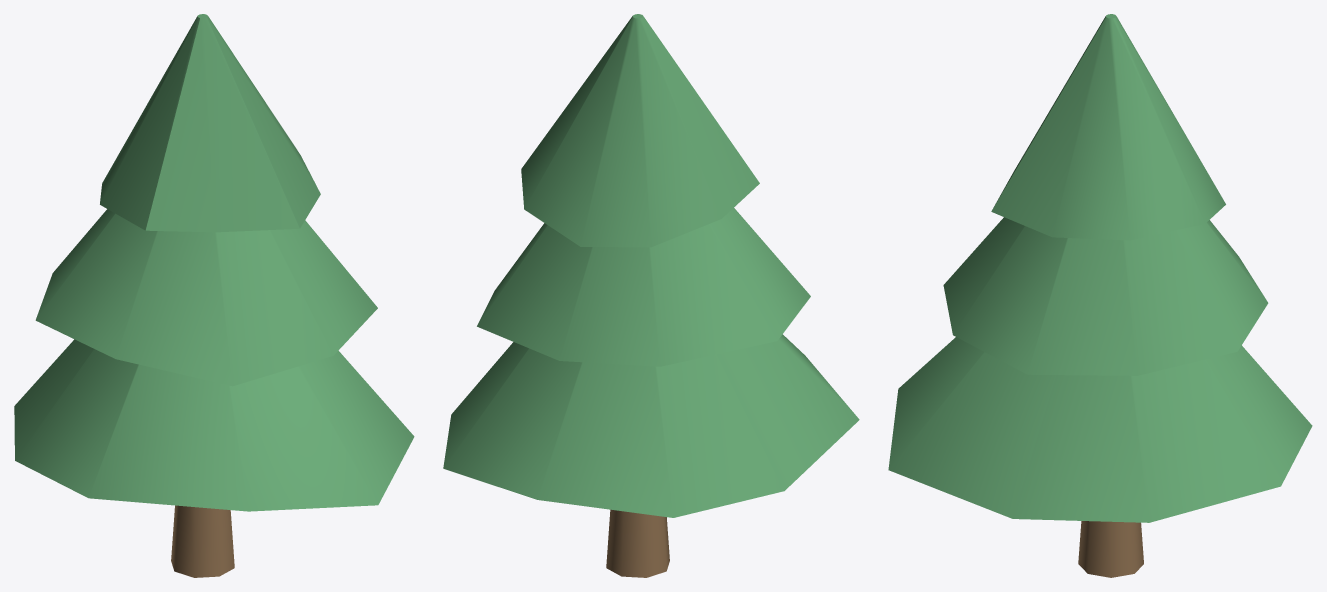
The model's file is pine.glb.
The picture shows the model from 3 angles, left to right: view 1: azimuth 30°, elevation 25°; view 2: azimuth 150°, elevation 25°; view 3: azimuth 270°, elevation 25°; orthographic projection.
Size of the model in its own units: 1.41 by 2.2 by 1.54.
